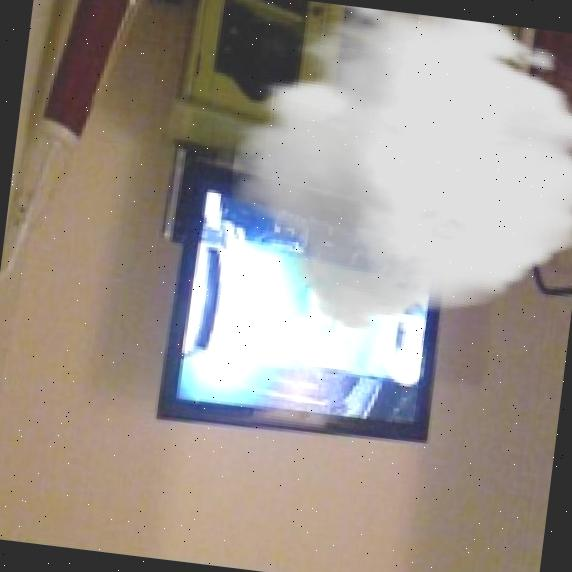smoke: (215, 0, 572, 357)
